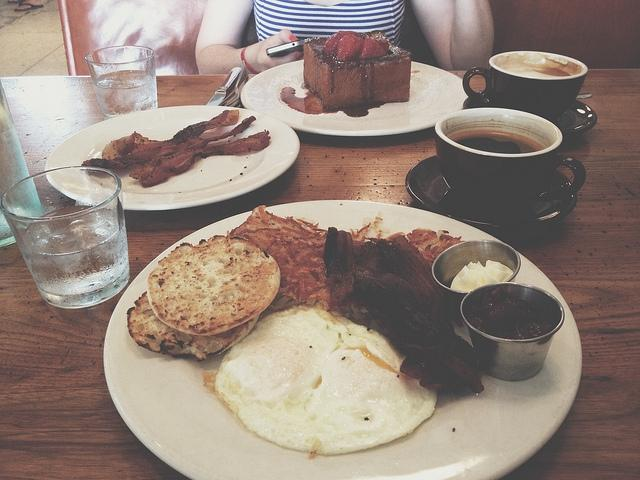strawberry: (336, 34, 362, 60), (359, 38, 387, 60), (322, 32, 343, 54), (372, 38, 390, 52)
